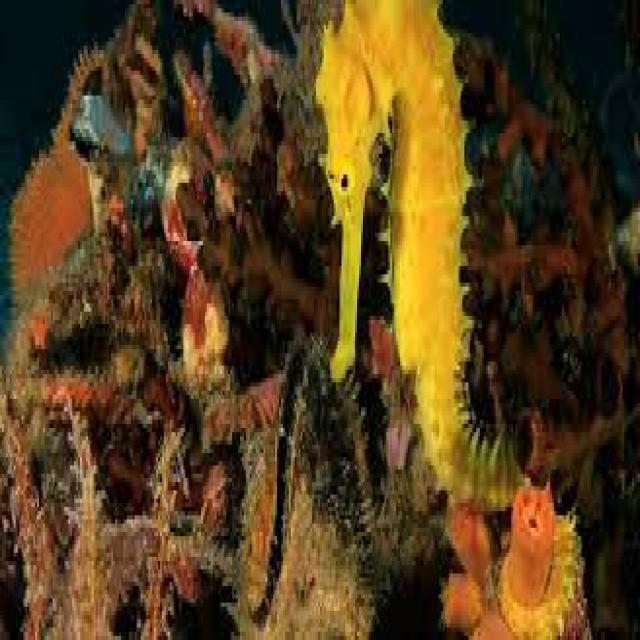seahorse: (316, 0, 511, 503)
